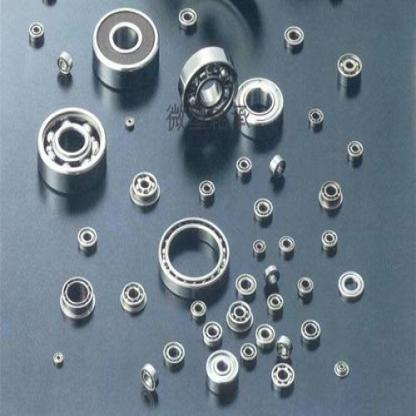FOD: (35, 104, 110, 196), (156, 214, 232, 302), (90, 4, 160, 96), (175, 45, 239, 131), (233, 75, 285, 140), (58, 275, 98, 325), (202, 348, 241, 399), (127, 170, 161, 209), (333, 51, 364, 90), (226, 300, 256, 334), (119, 281, 147, 316), (337, 268, 365, 302), (318, 178, 344, 214), (268, 361, 295, 395), (161, 339, 186, 375), (280, 22, 306, 56), (75, 225, 98, 259), (298, 316, 322, 347), (176, 5, 200, 35), (200, 318, 224, 348), (235, 270, 259, 300), (138, 362, 159, 395), (252, 196, 275, 225), (254, 322, 276, 350), (233, 155, 254, 183), (274, 332, 294, 361), (26, 20, 46, 48), (196, 178, 216, 206), (267, 153, 287, 181), (318, 228, 339, 254), (295, 276, 315, 303), (345, 140, 364, 166), (188, 299, 207, 325), (263, 264, 282, 290), (266, 292, 285, 318), (276, 234, 296, 258), (56, 52, 74, 78), (240, 340, 258, 366), (251, 236, 267, 262), (307, 106, 324, 130), (332, 360, 349, 378), (52, 349, 65, 369), (124, 113, 136, 132)
